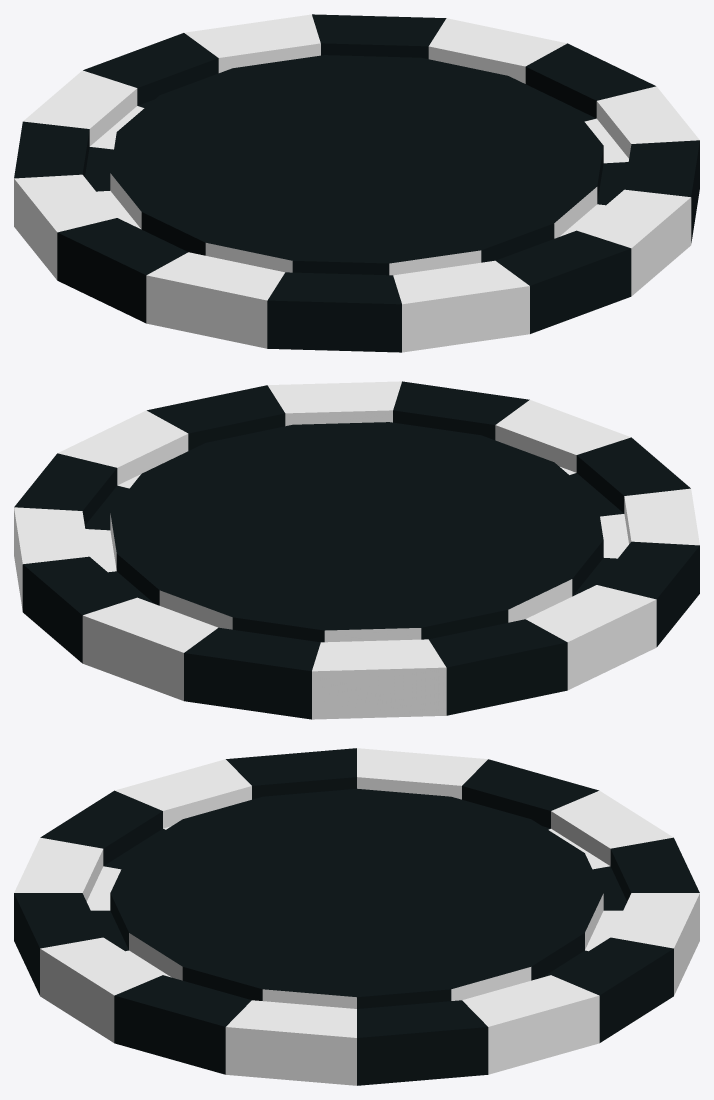
File: BlackChip.fbx
3 renders of one model, top to bottom at view 1: azimuth 30°, elevation 25°; view 2: azimuth 150°, elevation 25°; view 3: azimuth 270°, elevation 25°, orthographic.
Visible parts, largest first — view 1: Chip.003; view 2: Chip.003; view 3: Chip.003.
Part boxes in pixels (left/top/right/bottom): Chip.003: left=14, top=14, right=699, bottom=352; Chip.003: left=14, top=381, right=699, bottom=719; Chip.003: left=14, top=748, right=699, bottom=1085.
Bounding box in the file's own units: 39 × 3.01 × 39.
